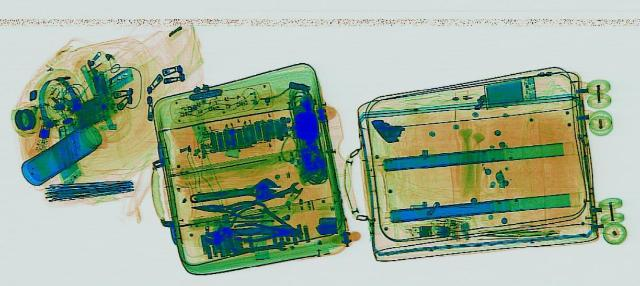Pliers: (189, 195, 273, 218), (224, 219, 304, 240)
Wrench: (180, 175, 286, 207), (214, 180, 310, 213), (194, 218, 296, 243), (222, 238, 290, 254)
